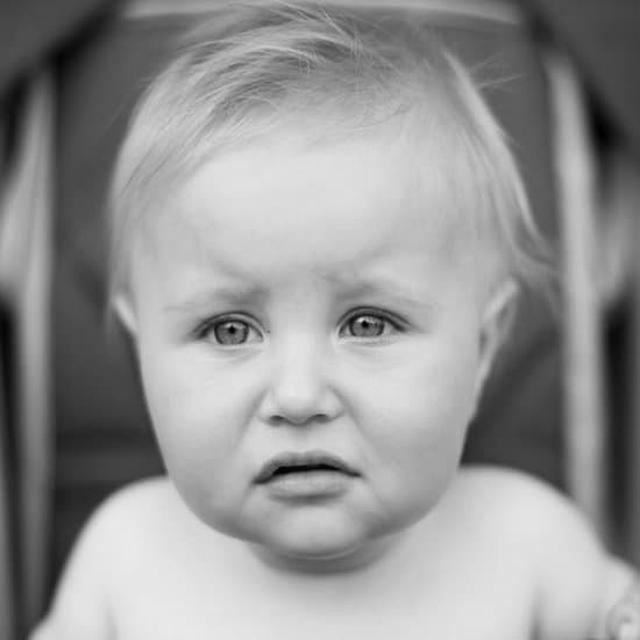Sadness: (172, 153, 442, 557)
